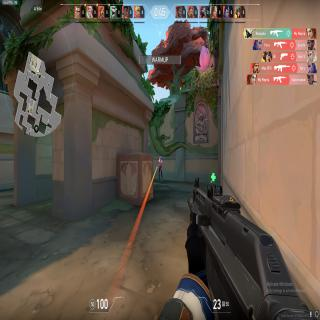ENEMY-BODY: (158, 156, 163, 182)
ENEMY-HEAD: (159, 156, 161, 160)
